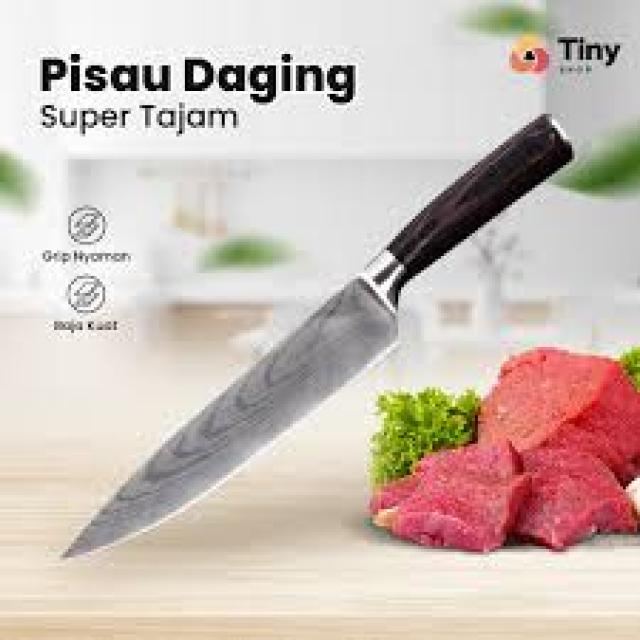Knife: (63, 114, 572, 558)
